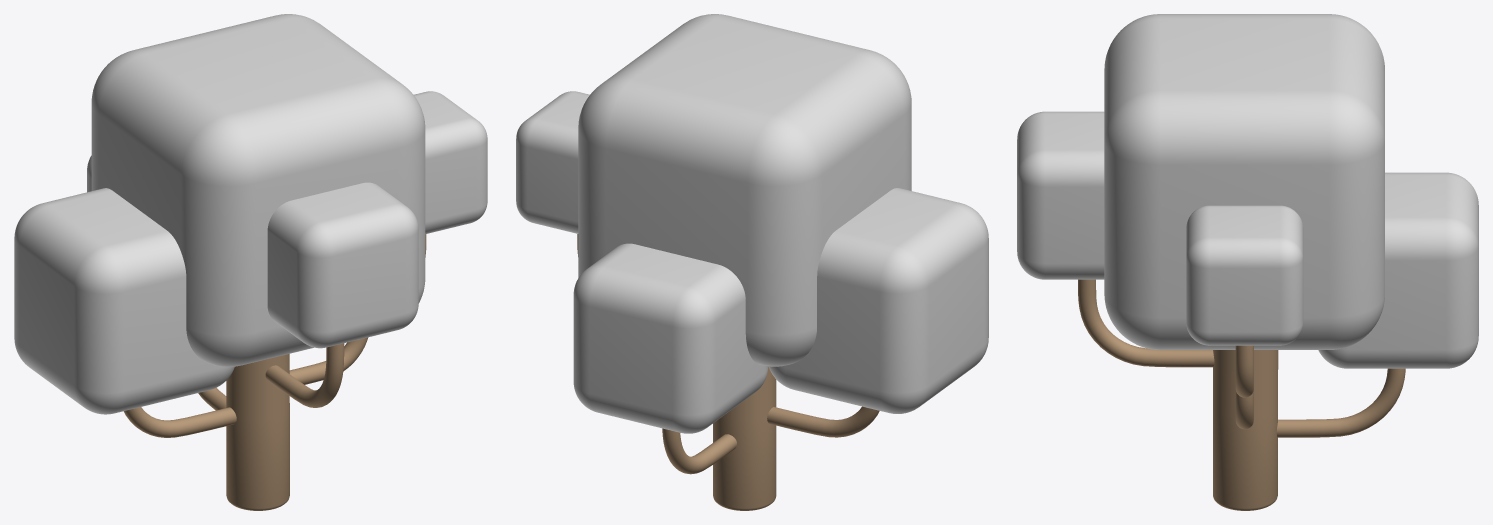
Rendered from Tree.fbx.
3 views of the same model, side by side, from view 1: azimuth 30°, elevation 25°; view 2: azimuth 150°, elevation 25°; view 3: azimuth 270°, elevation 25° (orthographic). The views are drawn at different scales.
Visible parts, largest first — view 1: Cube.009, Plan; view 2: Cube.009, Plan; view 3: Cube.009, Plan.
Boxes of the visible parts, box(x1,y1,x2,y2) form: Cube.009: box(14, 14, 487, 414); Plan: box(124, 234, 426, 510); Cube.009: box(516, 14, 988, 433); Plan: box(577, 234, 879, 510); Cube.009: box(1017, 14, 1478, 368); Plan: box(1078, 279, 1405, 510).
Bounding box in the file's own units: 426 × 419 × 395.
